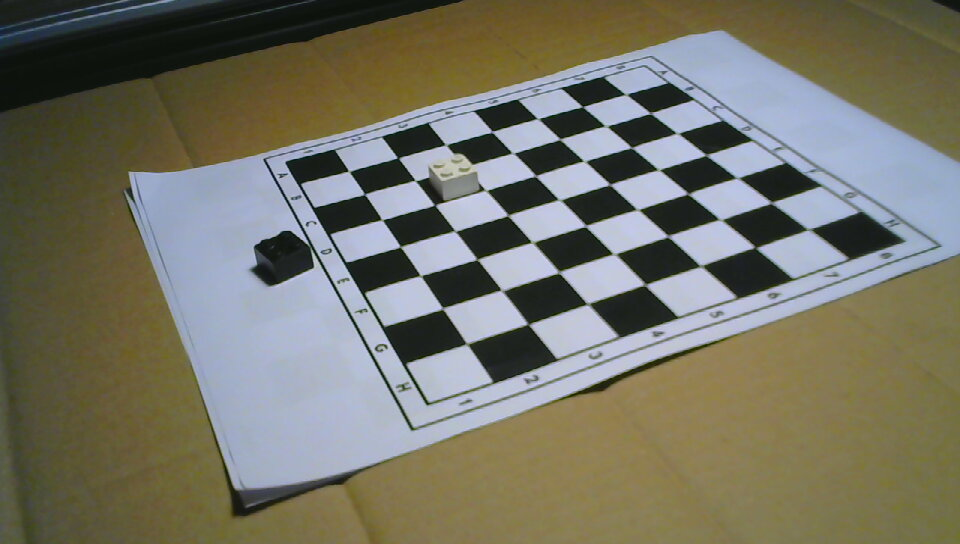bp: (252, 230, 314, 285)
wp: (430, 154, 481, 201)
